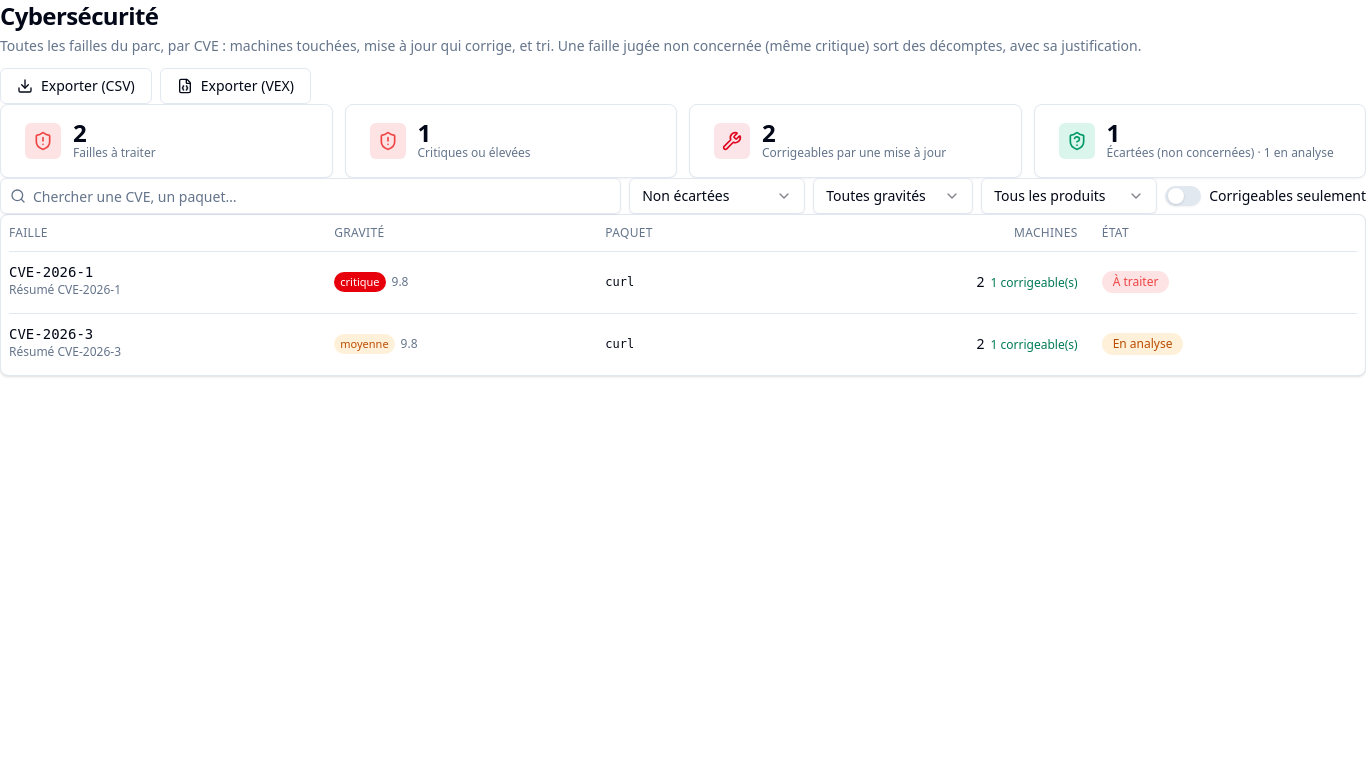
Test: SecurityScreen › ouvre le détail : machines touchées, correctif, formulaire de tri
Click the text "CVE-2026-1" at (51, 272), box top-left (9, 264), bottom-right (93, 280)
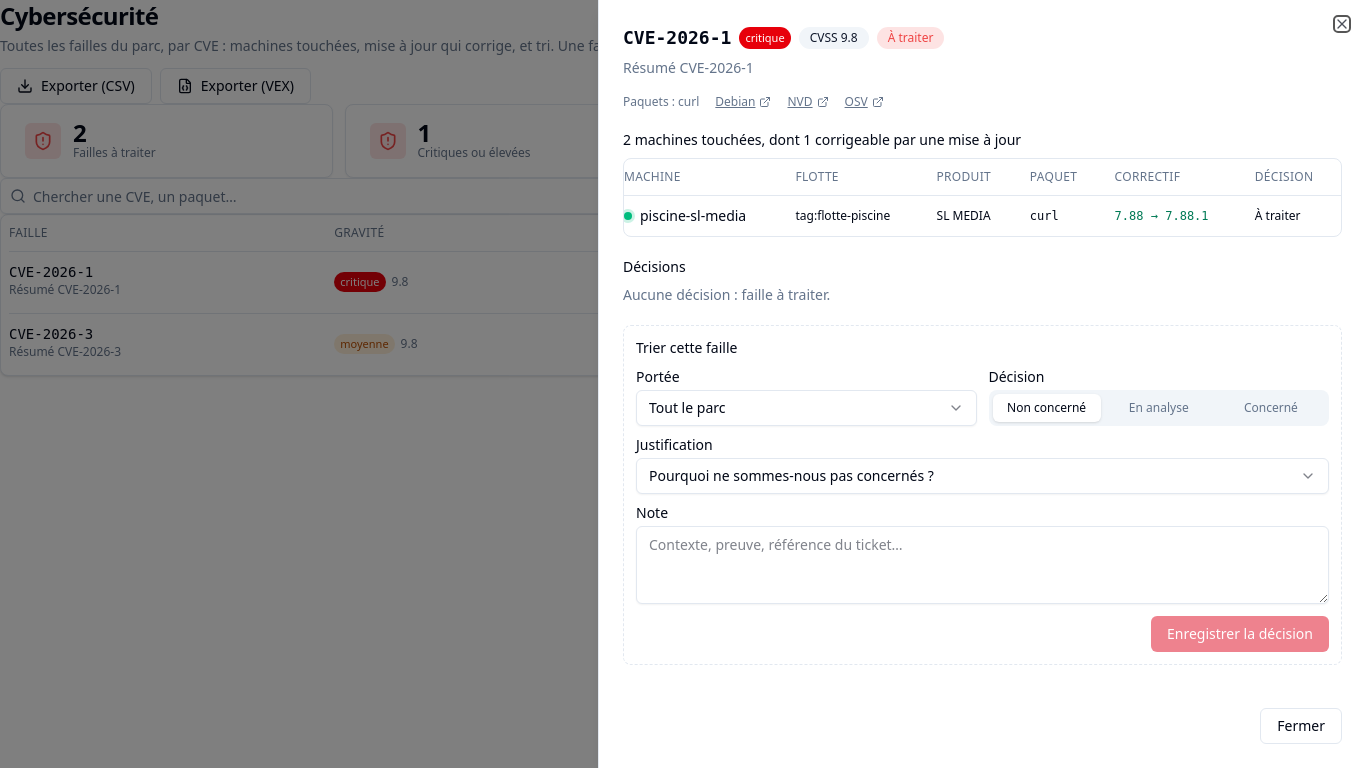
Result: the link "piscine-sl-media" is shown at top-left (624, 206), bottom-right (746, 224)
Result: the text "7.88 → 7.88.1" is shown at top-left (1115, 208), bottom-right (1209, 222)
Result: the text "Trier cette faille" is shown at top-left (636, 338), bottom-right (738, 356)
